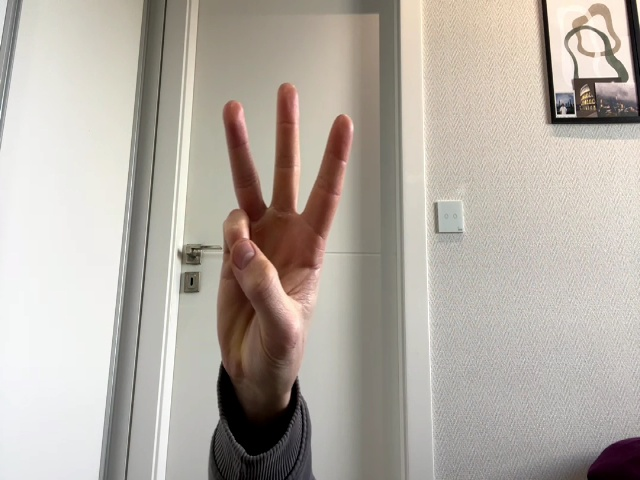W: (217, 82, 354, 391)
